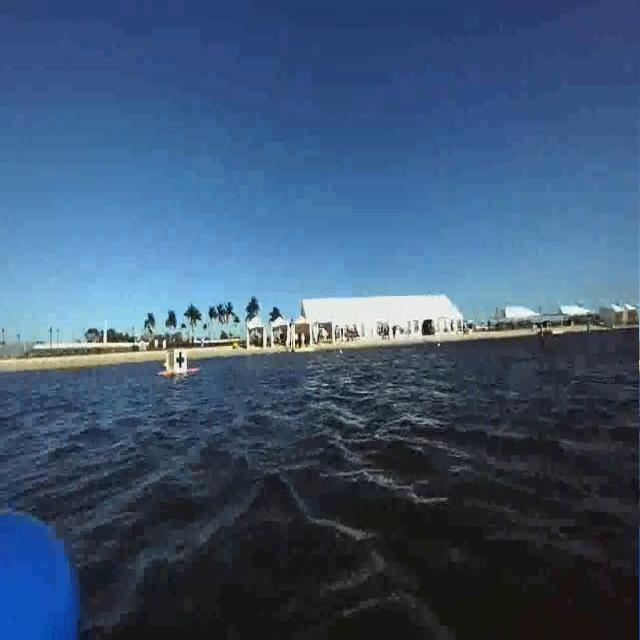blue-buoy: (0, 502, 81, 638)
